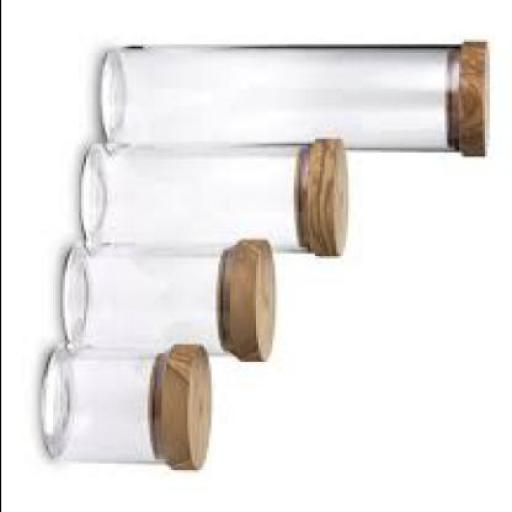glass: (104, 44, 466, 148), (77, 138, 314, 252), (59, 240, 229, 353), (40, 346, 170, 461)
